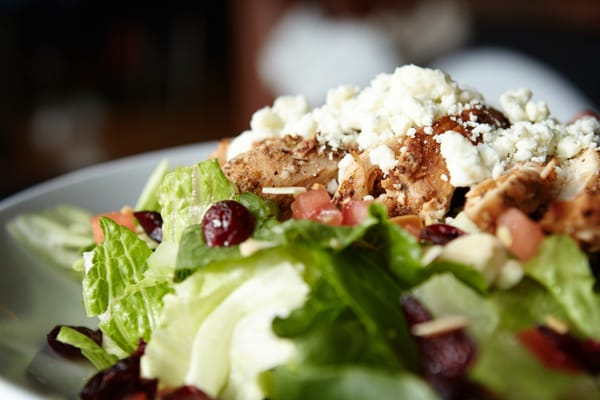curry: (1, 27, 596, 393)
